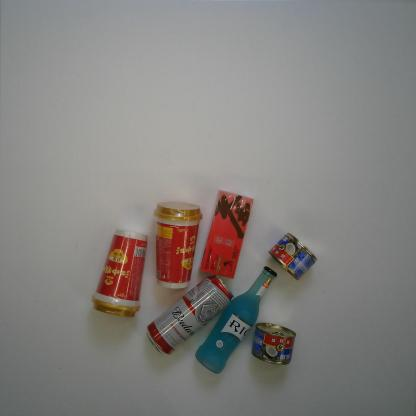Alcohol: (192, 264, 278, 375), (144, 274, 234, 357)
Canned Food: (267, 229, 318, 281), (250, 322, 297, 366)
Instant Drink: (90, 226, 150, 321), (200, 189, 254, 280), (153, 199, 203, 291)
